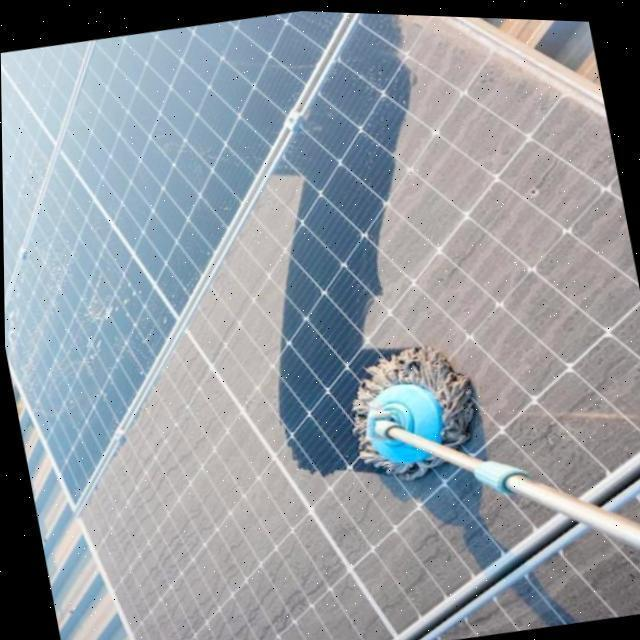Surface Contaminant: (76, 170, 551, 640), (364, 12, 640, 488), (412, 521, 640, 640), (619, 490, 640, 514)
